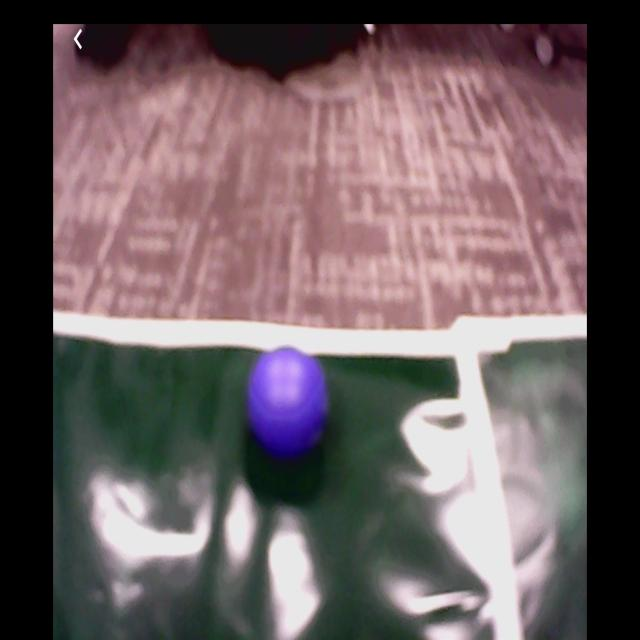ball: (250, 338, 324, 445)
